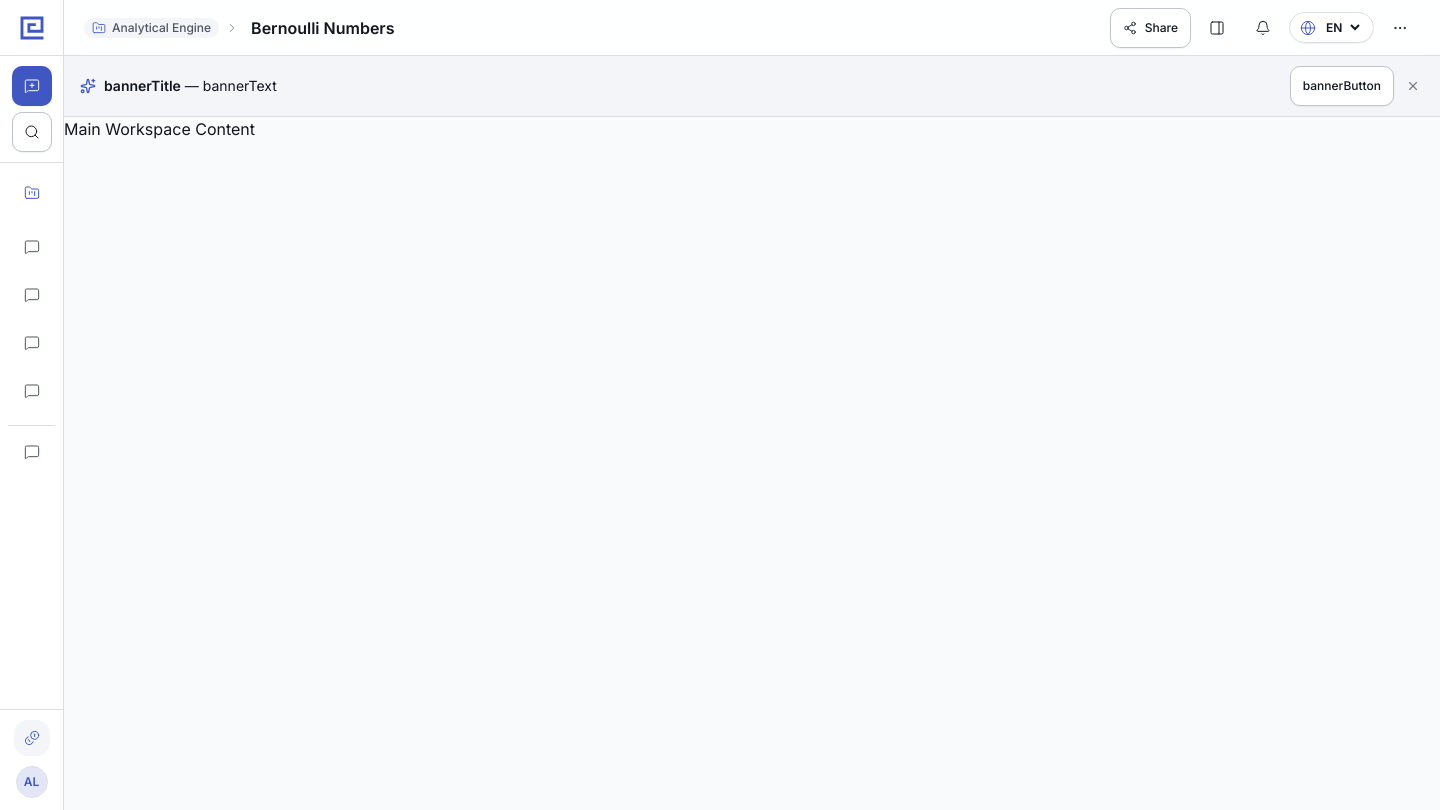
Test case: Auto-closing sidebar — app shell › stays open while one of its menus is open
Hover over the element showing "AL".
mouse_move(32, 405)  # box 0,0 -> 64,809
Wait 600 ms
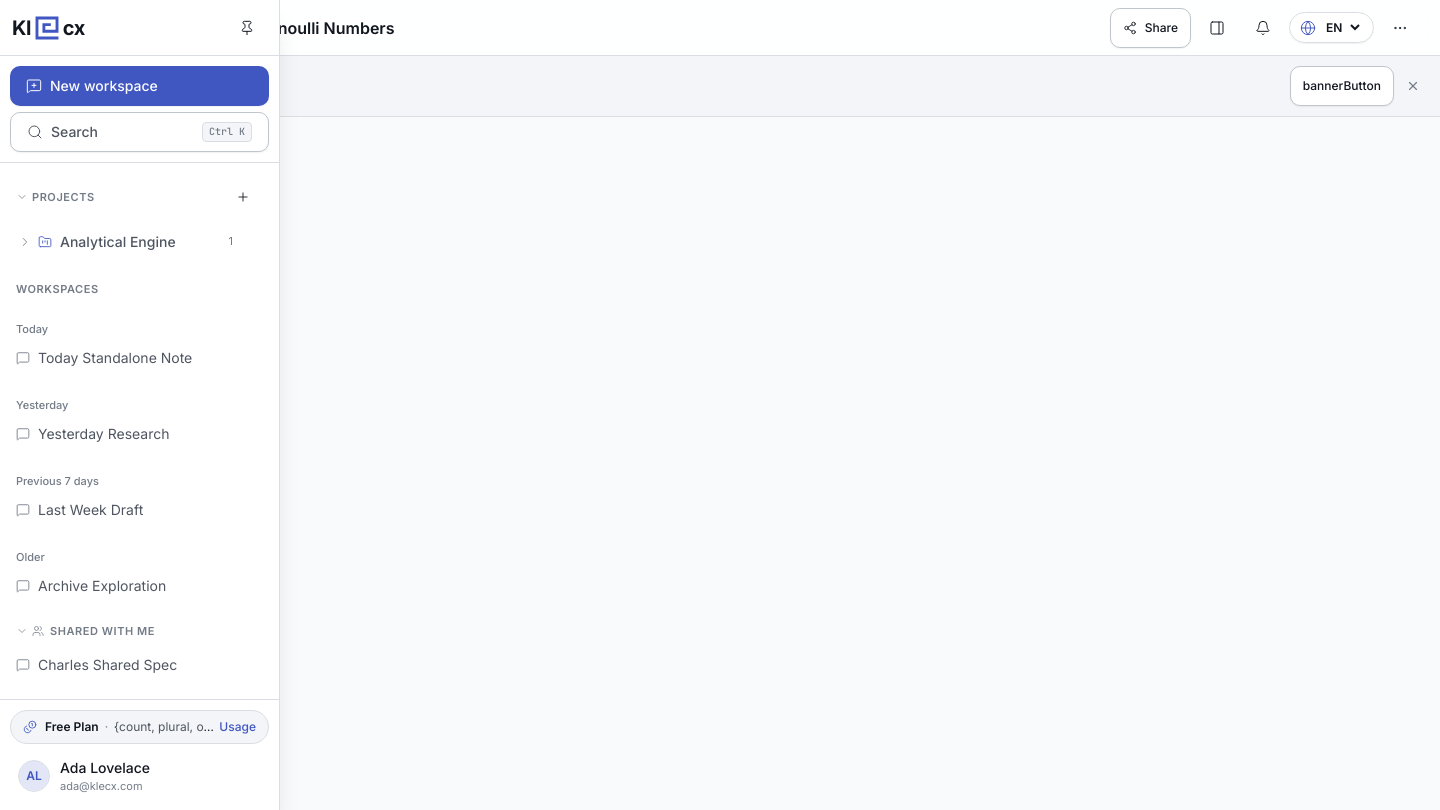
Check: the element with test id "sidebar-overlay" is shown, box 0,0 -> 280,809
